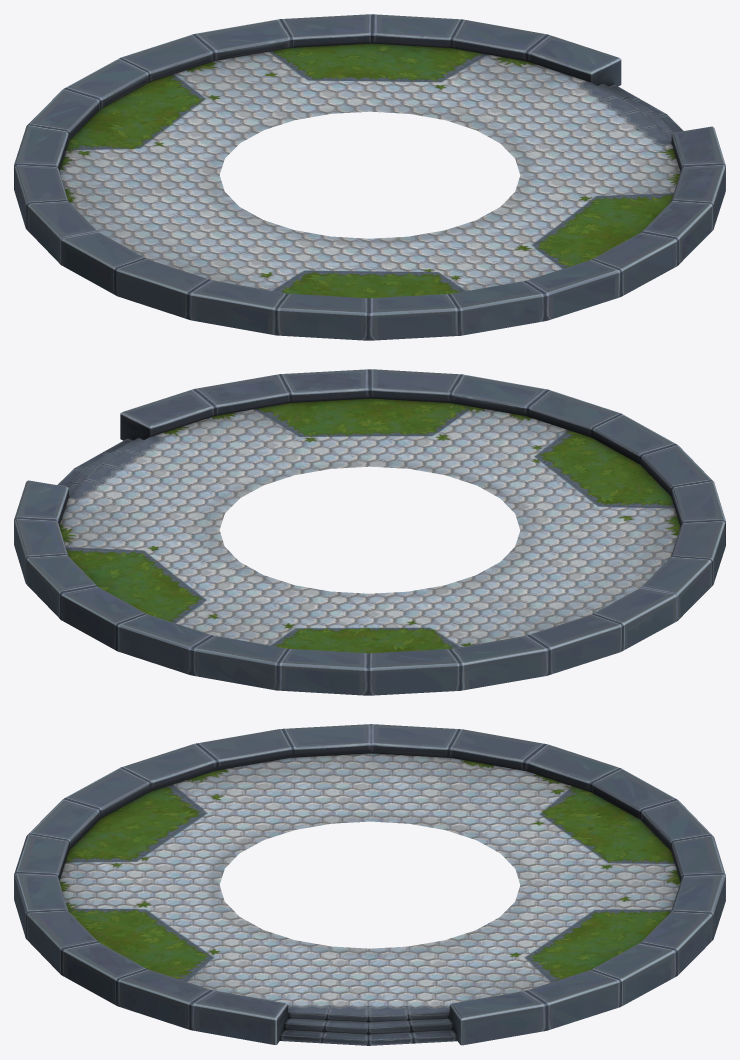
File: Center.glb
3 renders of one model, top to bottom at view 1: azimuth 30°, elevation 25°; view 2: azimuth 150°, elevation 25°; view 3: azimuth 270°, elevation 25°, orthographic.
Parts seen in each view (by area): view 1: Floor_Ground_0.001; view 2: Floor_Ground_0.001; view 3: Floor_Ground_0.001.
Part boxes in pixels (bbox=[...]): Floor_Ground_0.001: bbox=[14, 14, 725, 340]; Floor_Ground_0.001: bbox=[14, 369, 725, 695]; Floor_Ground_0.001: bbox=[14, 724, 725, 1045].
Bounding box in the file's own units: 2.11 × 0.0924 × 2.15.
Materials: 1 (1 with a texture image).
